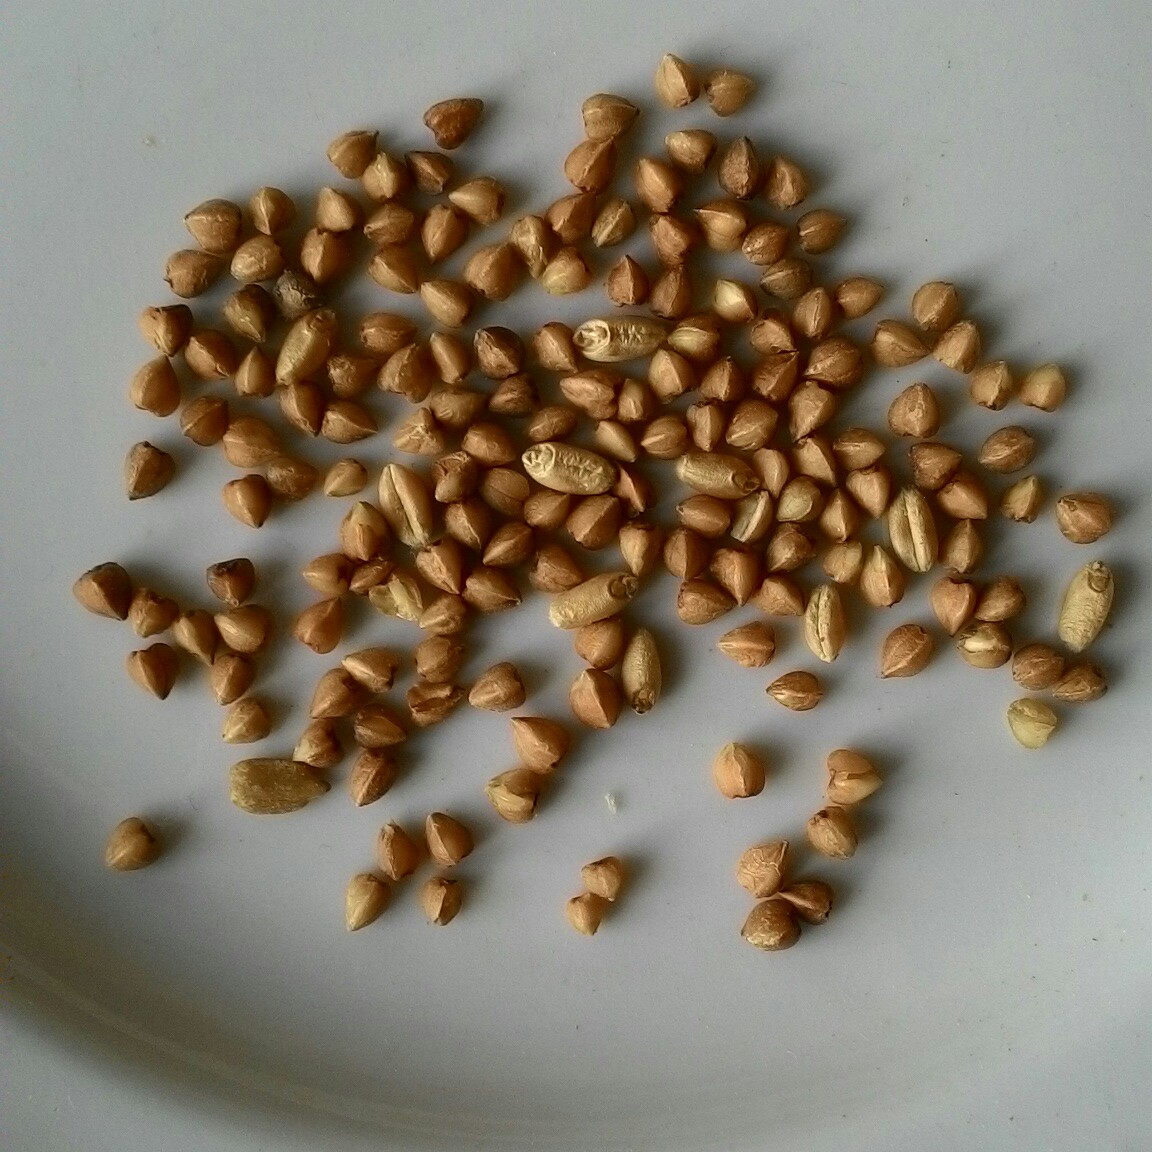semka: (227, 748, 337, 822)
wheat: (543, 565, 650, 639), (364, 452, 438, 556), (1053, 554, 1121, 663), (518, 430, 622, 499), (263, 304, 340, 393), (666, 444, 768, 507), (567, 309, 677, 367), (617, 625, 677, 721), (885, 477, 940, 581), (798, 573, 855, 672)
